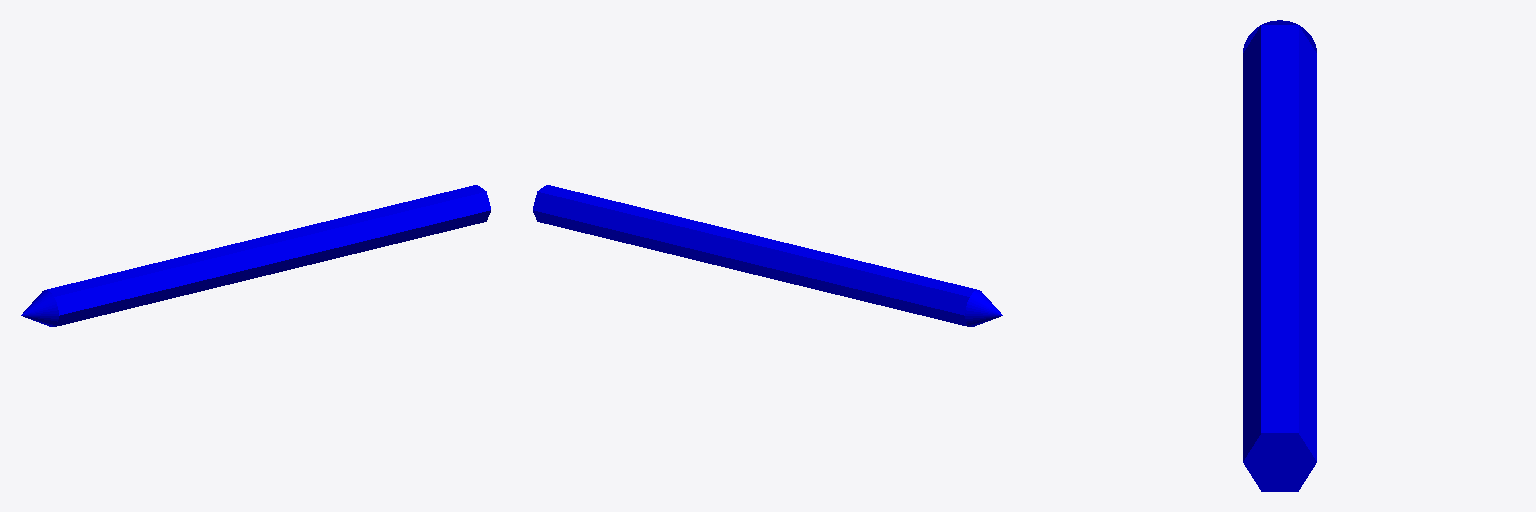
The robot description file, URDF, robot "pen":
<?xml version="1.0" ?>
<robot name="pen">
  <link name="base_link">
    <visual>
      <origin rpy="0 0 0" xyz="0 0 0"/>
      <geometry>
        <mesh filename="pen.obj" scale="1 1 1"/>
      </geometry>
      <material name="blue">
        <color rgba="0 0 1 1"/>
      </material>
    </visual>

    <collision>
      <origin rpy="0 0 0" xyz="0 0 0"/>
      <geometry>
        <mesh filename="pen.obj" scale="1 1 1"/>
      </geometry>
    </collision>

    <inertial>
      <origin rpy="0 0 0" xyz="0 0 0"/>
      <mass value="0.015"/> <inertia ixx="0.0001" ixy="0" ixz="0" iyy="0.0001" iyz="0" izz="0.000005"/>
    </inertial>
  </link>
</robot>

--- What the picture shows (computed from the rendered views, not written in the file) ---
Views: 3 orthographic renders of the robot side by side, from view 1: azimuth 30°, elevation 25°; view 2: azimuth 150°, elevation 25°; view 3: azimuth 270°, elevation 25°.
Model pen with 1 links and 0 joints (none), rooted at base_link, posed every joint at zero.
Visible links, largest first — view 1: base_link; view 2: base_link; view 3: base_link.
Boxes of the visible links, <box> form: base_link: <box>21,185,490,326</box>; base_link: <box>533,185,1002,326</box>; base_link: <box>1243,20,1316,491</box>.
Bounding box of the posed robot: 160 × 11.55 × 11.53 m (x, y, z).
1 mesh visuals loaded from 1 distinct referenced files (1 OBJ).
